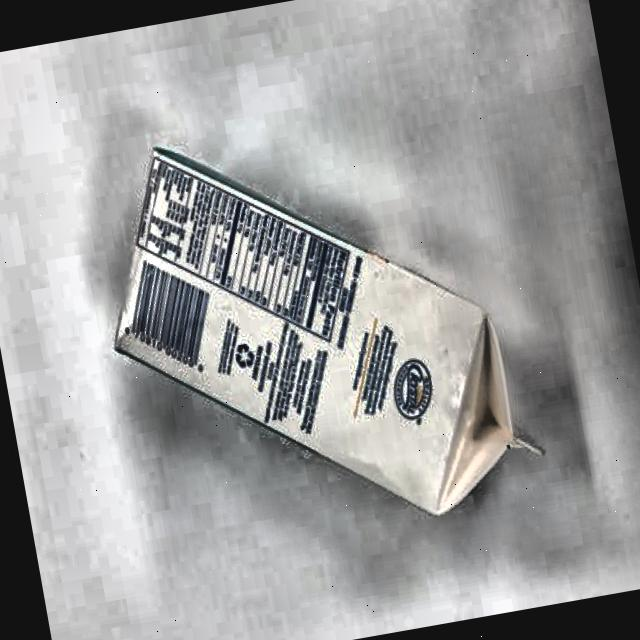paper: (80, 81, 552, 562)
